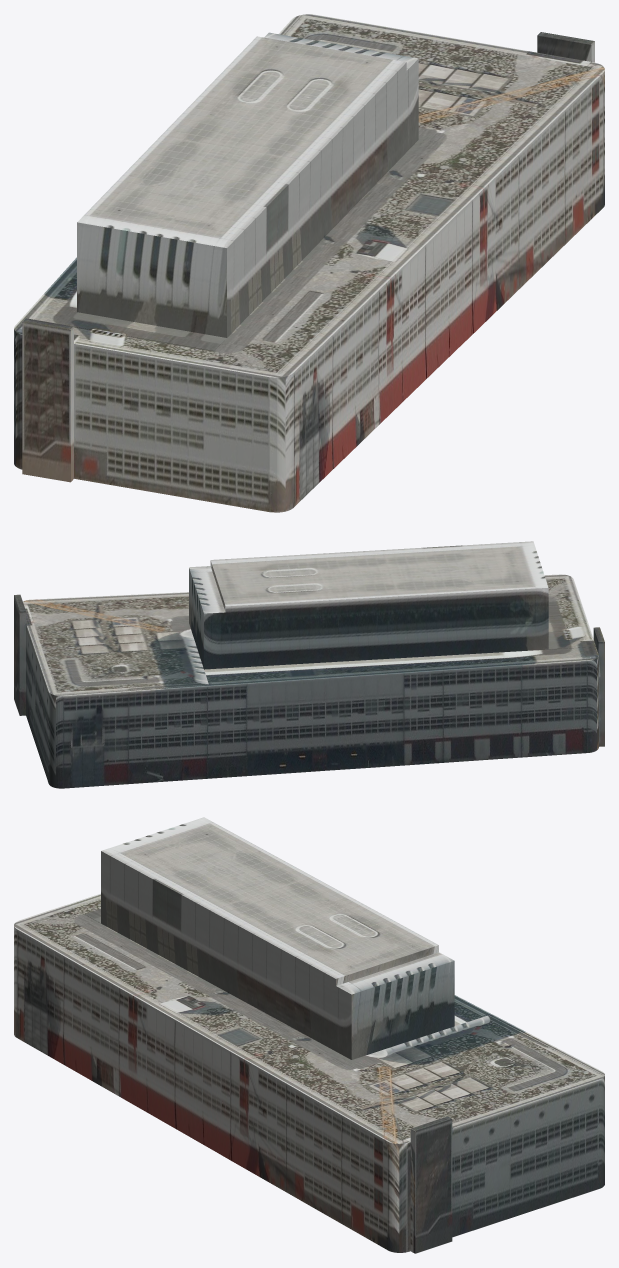
File: {946F8C2A-CE8E-4D4F-9AE5-0F8599917ACA}.dae
The picture shows the model from 3 angles, top to bottom: view 1: azimuth 30°, elevation 25°; view 2: azimuth 150°, elevation 25°; view 3: azimuth 270°, elevation 25°; orthographic projection. The views are drawn at different scales.
Size of the model in its own units: 107 by 95.12 by 32.21.
Materials: 16 (15 with a texture image).
